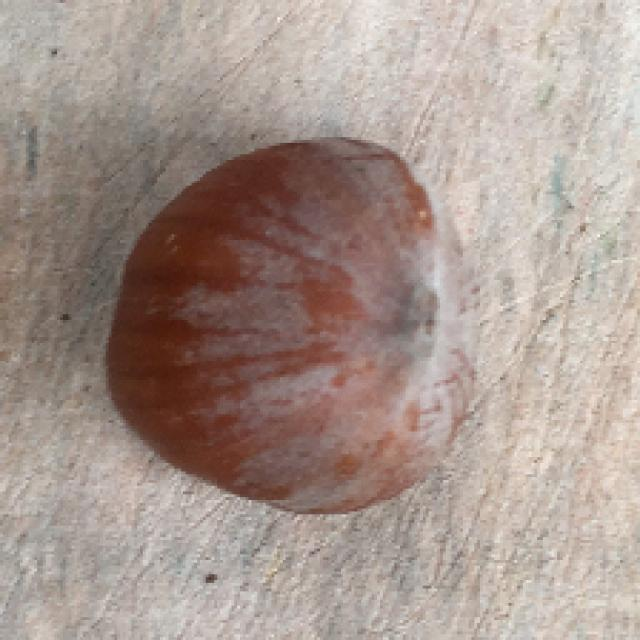qualityHazelnut: (95, 130, 484, 526)
